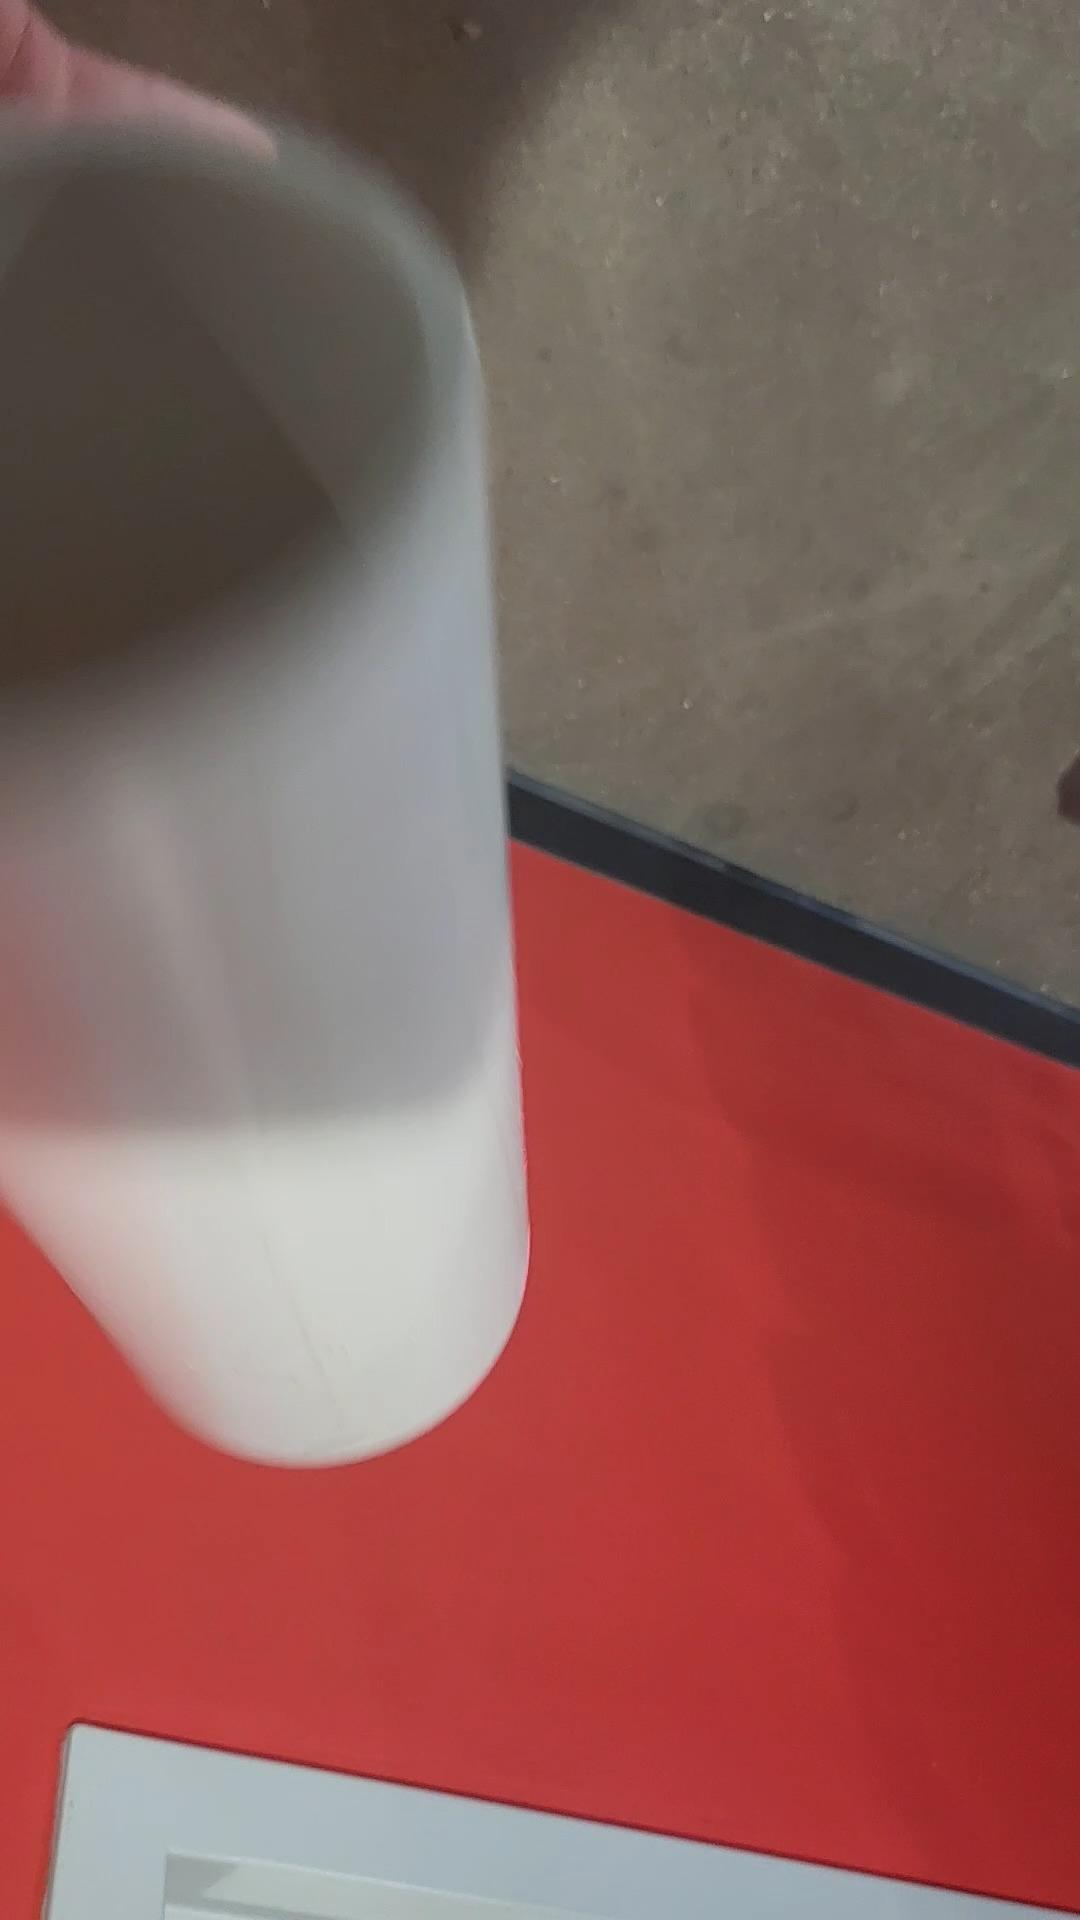coral: (0, 115, 533, 1460)
